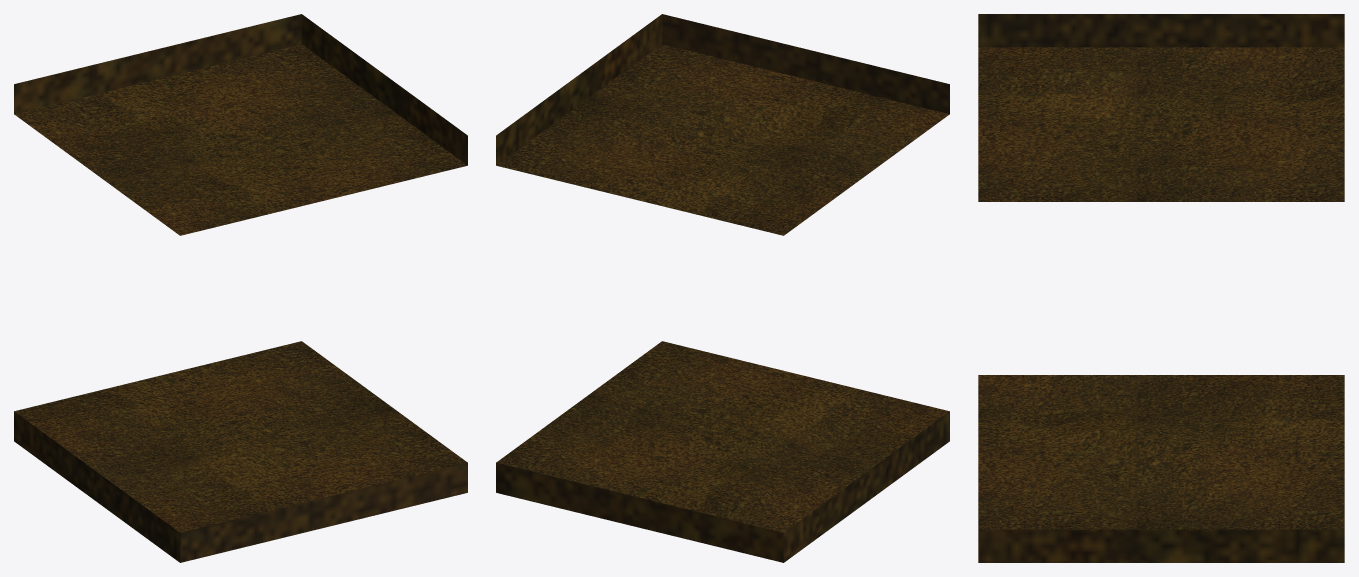
File: EarthFloor4-2021.glb
3 renders of one model, left to right at view 1: azimuth 30°, elevation 25°; view 2: azimuth 150°, elevation 25°; view 3: azimuth 270°, elevation 25°, orthographic. The views are drawn at different scales.
Visible parts, largest first — view 1: Cube; view 2: Cube; view 3: Cube.
Boxes of the visible parts, box(x1,y1,x2,y2) form: Cube: box(14, 14, 467, 562); Cube: box(496, 14, 949, 562); Cube: box(978, 14, 1344, 562).
Bounding box in the file's own units: 2 × 2.37 × 2.
1 material, 1 textured.
